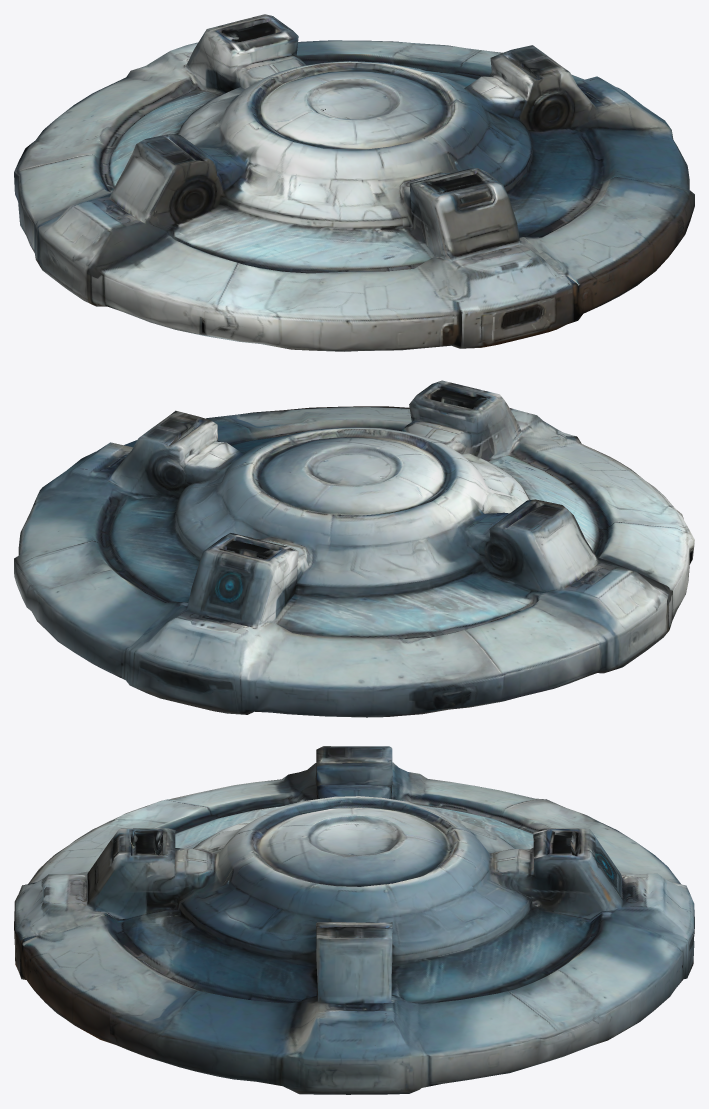
Rendered from turret_bottom_002_hq.fbx.
3 renders of one model, top to bottom at view 1: azimuth 30°, elevation 25°; view 2: azimuth 150°, elevation 25°; view 3: azimuth 270°, elevation 25°, orthographic.
Visible parts, largest first — view 1: Mesh1_Mesh1.025; view 2: Mesh1_Mesh1.025; view 3: Mesh1_Mesh1.025.
Part boxes in pixels (box(x1,y1,x2,y2)): Mesh1_Mesh1.025: box(14, 14, 694, 351); Mesh1_Mesh1.025: box(14, 380, 694, 717); Mesh1_Mesh1.025: box(14, 746, 694, 1094).
Bounding box in the file's own units: 200 × 42.5 × 200.
1 material, 1 textured.
